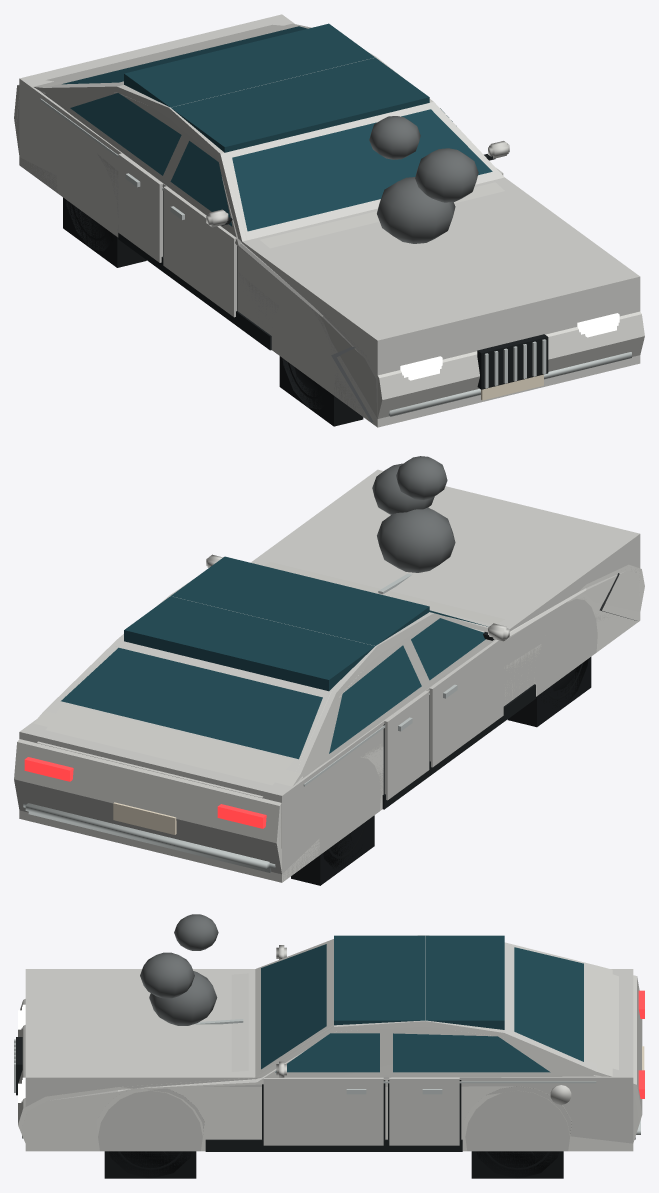
The model's file is oc_exotic_01.glb.
The picture shows the model from 3 angles, top to bottom: view 1: azimuth 30°, elevation 25°; view 2: azimuth 150°, elevation 25°; view 3: azimuth 270°, elevation 25°; orthographic projection. The views are drawn at different scales.
Visible parts, largest first — view 1: LOD3_OC_Paint_Body, LOD3_OC_Glazing, LOD1_OC_Paint_Body, LOD1_OC_Glazing, LOD2_OC_Paint_Body, LOD2_OC_Glazing, Damage_Engine_OC_Damage_Smoke, Door_FL_OC_Paint_Body, LOD1_OC_Trim_Black, LOD3_OC_Rubber, Door_RL_OC_Paint_Body, LOD1_OC_Chrome (+5 smaller); view 2: LOD3_OC_Paint_Body, LOD3_OC_Glazing, LOD1_OC_Glazing, LOD2_OC_Paint_Body, LOD1_OC_Paint_Body, Trunk_OC_Paint_Body, Damage_Engine_OC_Damage_Smoke, Door_FL_OC_Paint_Body, LOD3_OC_Rubber, Door_RL_OC_Paint_Body, LOD1_OC_Chrome, LOD1_OC_Trim_Black (+4 smaller); view 3: LOD3_OC_Paint_Body, LOD1_OC_Paint_Body, LOD1_OC_Glazing, LOD3_OC_Glazing, Door_FR_OC_Paint_Body, LOD2_OC_Paint_Body, Damage_Engine_OC_Damage_Smoke, Door_RR_OC_Paint_Body, LOD2_OC_Glazing, Trunk_OC_Paint_Body, LOD3_OC_Rubber, LOD1_OC_Trim_Black (+3 smaller).
Part boxes in pixels (left/top/right/bottom): LOD3_OC_Paint_Body: left=19, top=14, right=640, bottom=427; LOD3_OC_Glazing: left=124, top=23, right=429, bottom=152; LOD1_OC_Paint_Body: left=16, top=26, right=643, bottom=418; LOD1_OC_Glazing: left=62, top=26, right=492, bottom=231; LOD2_OC_Paint_Body: left=14, top=23, right=644, bottom=422; LOD2_OC_Glazing: left=244, top=112, right=441, bottom=211; Damage_Engine_OC_Damage_Smoke: left=369, top=116, right=478, bottom=243; Door_FL_OC_Paint_Body: left=163, top=186, right=237, bottom=317; LOD1_OC_Trim_Black: left=118, top=154, right=548, bottom=389; LOD3_OC_Rubber: left=63, top=197, right=363, bottom=426; Door_RL_OC_Paint_Body: left=118, top=153, right=163, bottom=262; LOD1_OC_Chrome: left=40, top=98, right=631, bottom=416; LOD3_OC_Paint_Body: left=19, top=469, right=640, bottom=882; LOD3_OC_Glazing: left=124, top=556, right=429, bottom=691; LOD1_OC_Glazing: left=61, top=610, right=487, bottom=759; LOD2_OC_Paint_Body: left=14, top=564, right=644, bottom=882; LOD1_OC_Paint_Body: left=15, top=554, right=639, bottom=873; Trunk_OC_Paint_Body: left=37, top=704, right=293, bottom=797; Damage_Engine_OC_Damage_Smoke: left=372, top=456, right=455, bottom=572; Door_FL_OC_Paint_Body: left=429, top=639, right=503, bottom=767; LOD3_OC_Rubber: left=291, top=657, right=591, bottom=885; Door_RL_OC_Paint_Body: left=384, top=691, right=429, bottom=800; LOD1_OC_Chrome: left=23, top=692, right=429, bottom=872; LOD1_OC_Trim_Black: left=382, top=632, right=535, bottom=809; LOD3_OC_Paint_Body: left=25, top=969, right=633, bottom=1151; LOD1_OC_Paint_Body: left=18, top=944, right=642, bottom=1151; LOD1_OC_Glazing: left=261, top=944, right=583, bottom=1072; LOD3_OC_Glazing: left=334, top=935, right=504, bottom=1029; Door_FR_OC_Paint_Body: left=263, top=1077, right=383, bottom=1145; LOD2_OC_Paint_Body: left=18, top=935, right=642, bottom=1136; Damage_Engine_OC_Damage_Smoke: left=140, top=914, right=218, bottom=1025; Door_RR_OC_Paint_Body: left=389, top=1077, right=459, bottom=1145; LOD2_OC_Glazing: left=273, top=949, right=326, bottom=1049; Trunk_OC_Paint_Body: left=586, top=966, right=634, bottom=1074; LOD3_OC_Rubber: left=104, top=1151, right=563, bottom=1178; LOD1_OC_Trim_Black: left=16, top=1037, right=462, bottom=1151.
Size of the model in its own units: 2.24 by 1.71 by 4.81.
